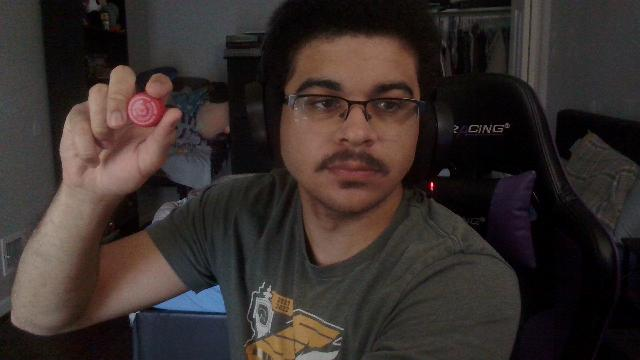cap: (128, 91, 164, 127)
